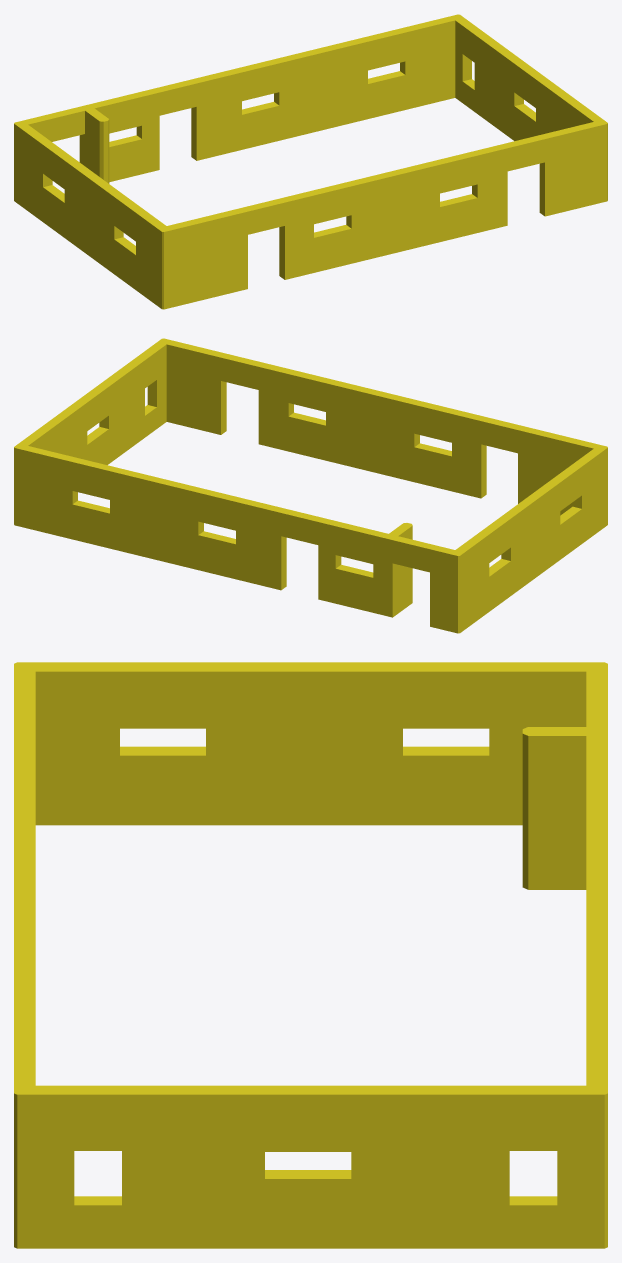
Rendered from StationMur.fbx.
3 views of the same model, one above another, from view 1: azimuth 30°, elevation 25°; view 2: azimuth 150°, elevation 25°; view 3: azimuth 270°, elevation 25° (orthographic). The views are drawn at different scales.
Parts seen in each view (by area): view 1: StationMur; view 2: StationMur; view 3: StationMur.
Boxes of the visible parts, x1,y1,x2,y2 form: StationMur: (14, 14, 607, 309); StationMur: (14, 338, 607, 633); StationMur: (14, 662, 607, 1248).
Size of the model in its own units: 2401 by 398 by 1394.
